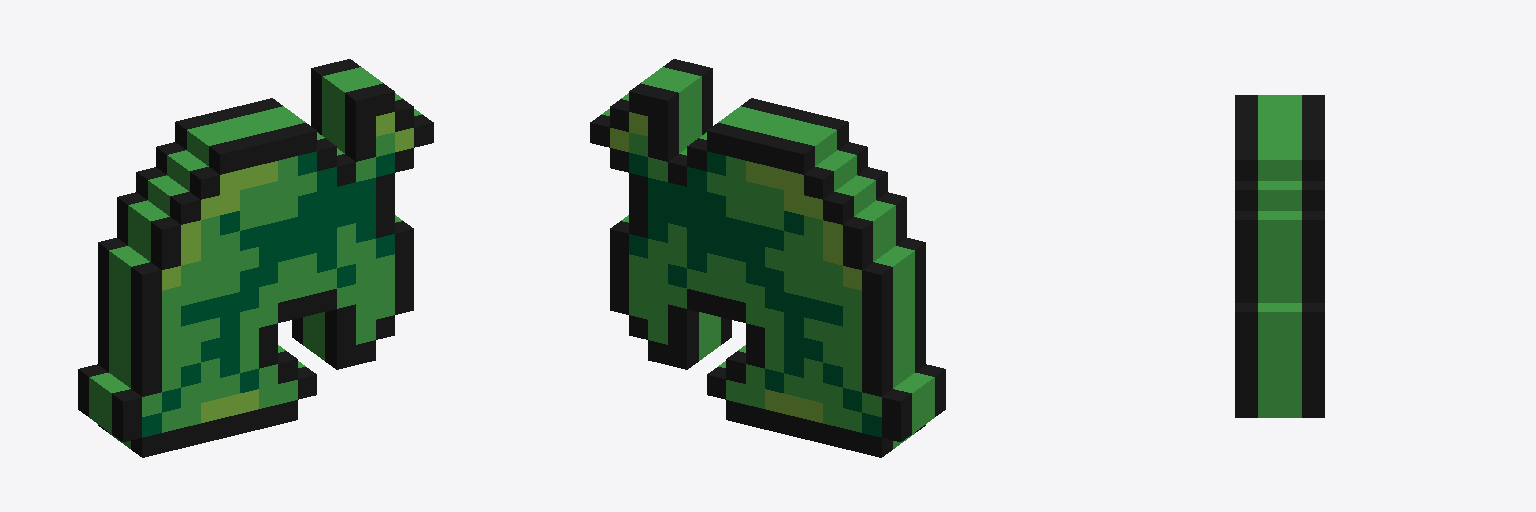
3 views of the same model, side by side, from view 1: azimuth 30°, elevation 25°; view 2: azimuth 150°, elevation 25°; view 3: azimuth 270°, elevation 25° (orthographic).
Visible parts, largest first — view 1: object 1; view 2: object 1; view 3: object 1.
Part boxes in pixels (x1,y1,x2,y2): object 1: (78, 59, 433, 457); object 1: (590, 59, 945, 457); object 1: (1235, 95, 1324, 417).
Bounding box in the file's own units: 1.6 × 1.5 × 0.4.
Materials: 1 (1 with a texture image).